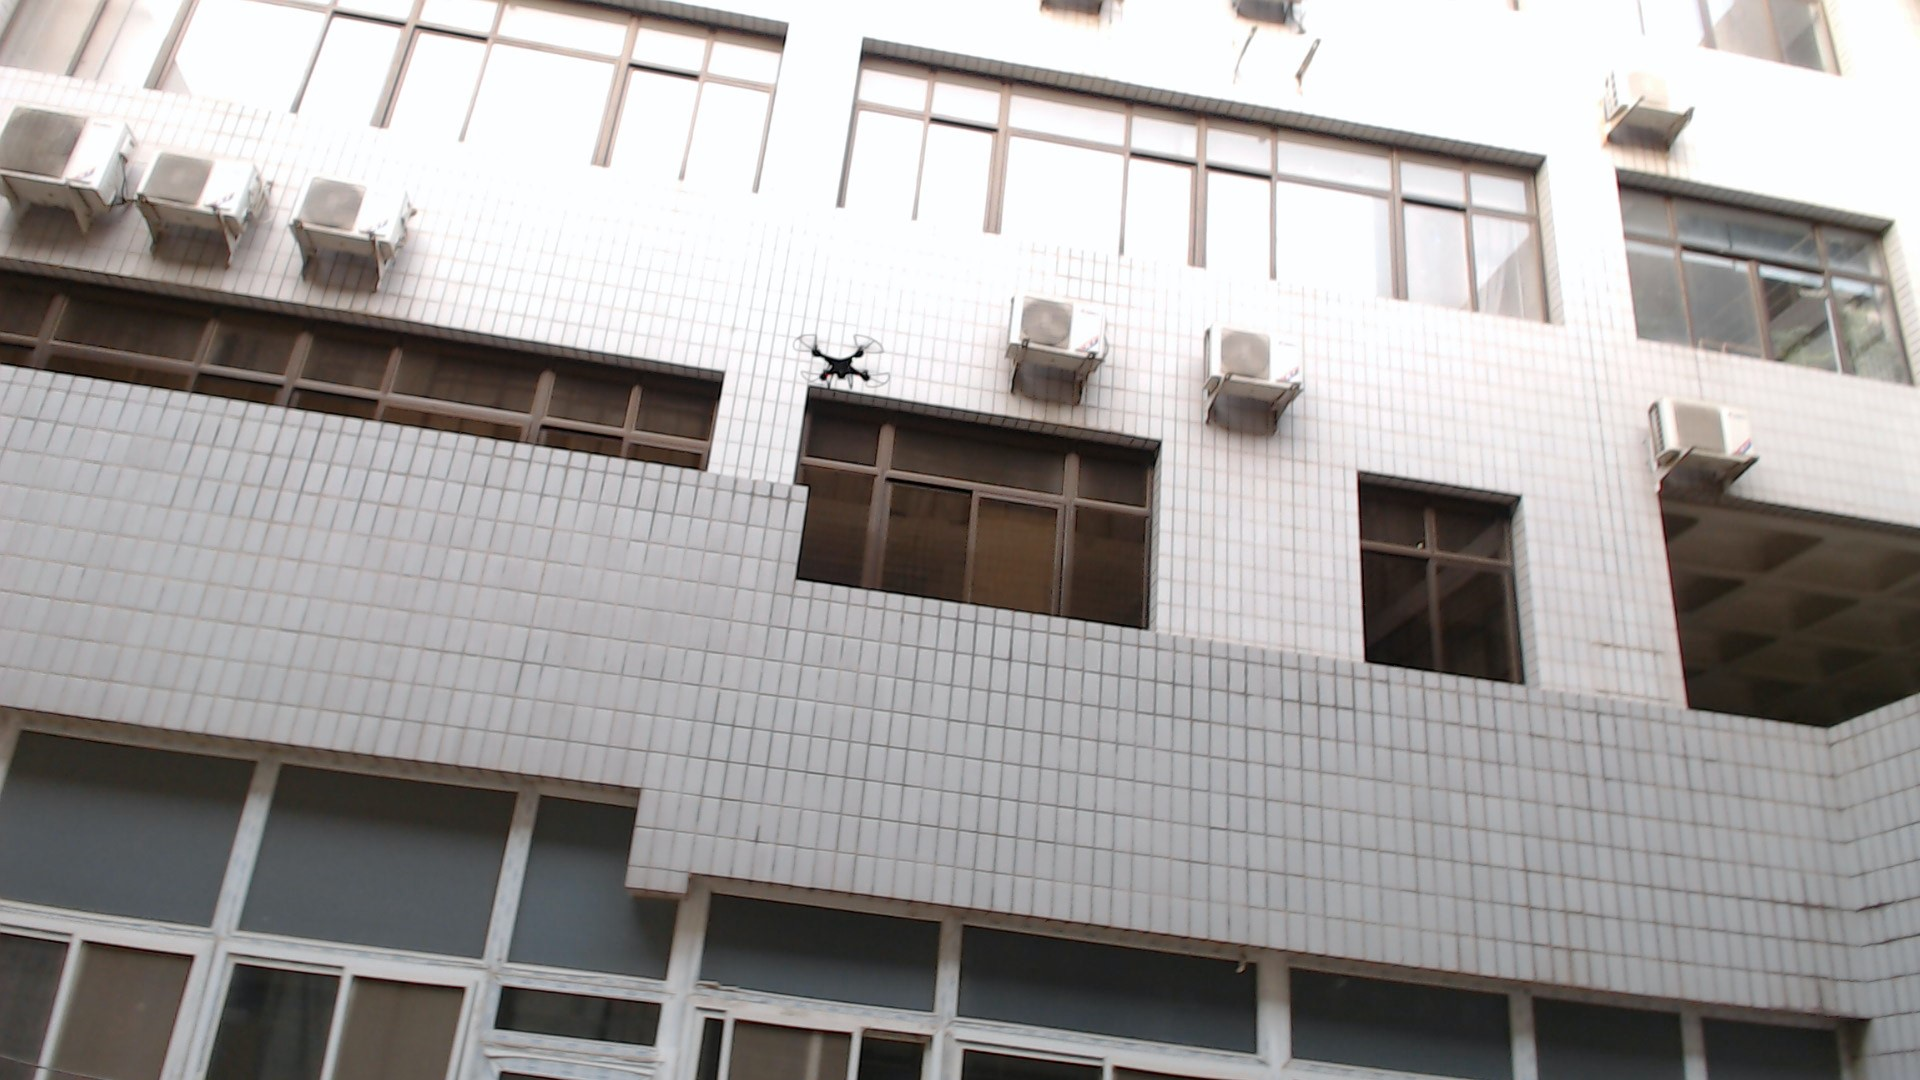drone: (783, 306, 901, 414)
